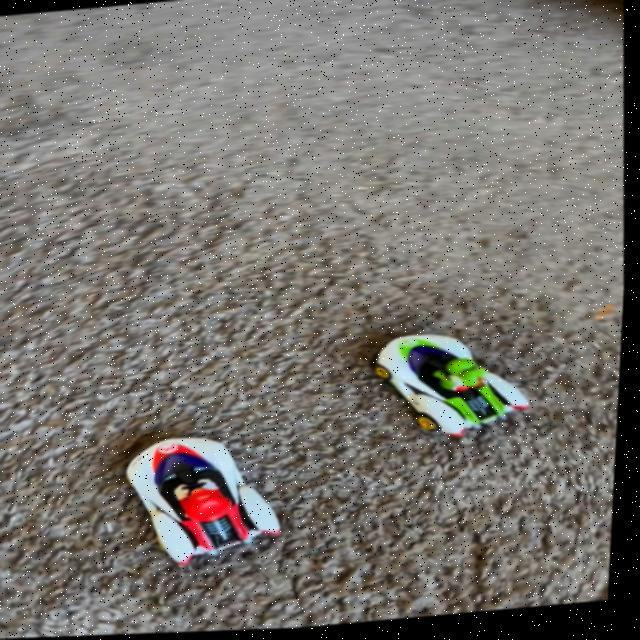mario: (111, 418, 305, 588)
yoshi: (361, 316, 557, 465)
